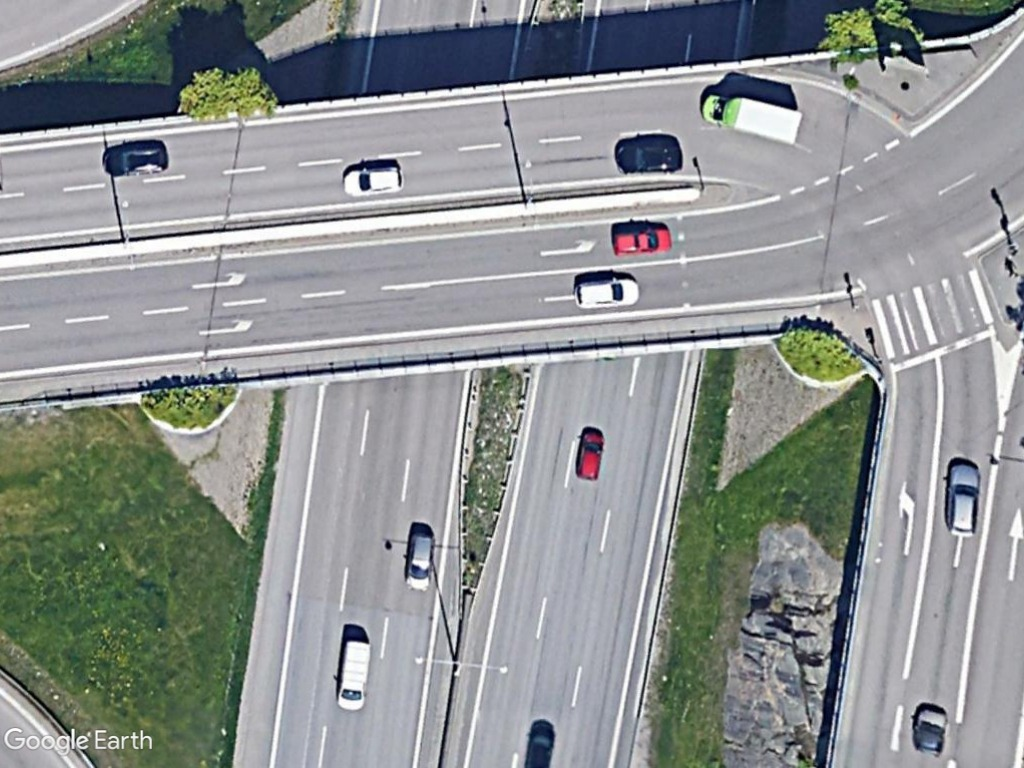car: (941, 455, 985, 542), (612, 134, 688, 181), (97, 140, 173, 182), (337, 160, 411, 202), (604, 222, 677, 263), (569, 275, 644, 313), (400, 526, 439, 598), (569, 424, 608, 488)
truck: (696, 89, 809, 150)
van: (333, 635, 377, 719)
